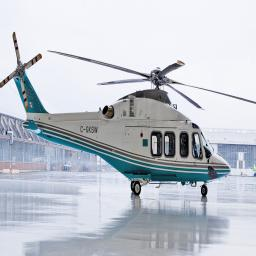helicopter: (2, 34, 256, 197)
